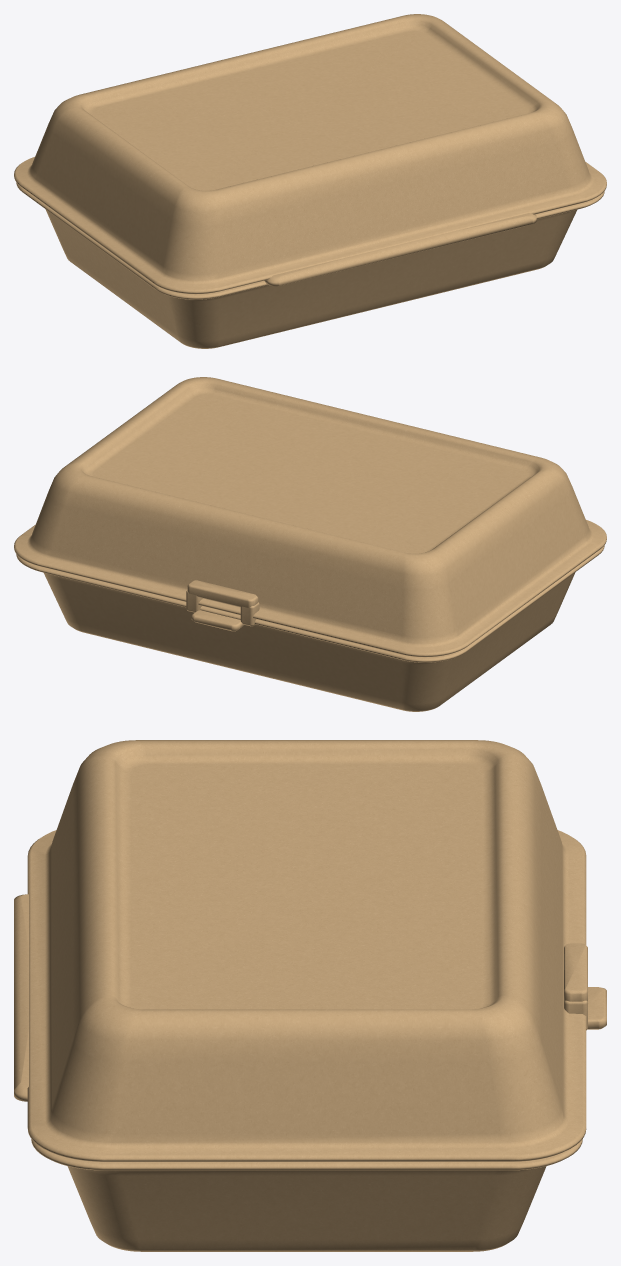
File: takeaway.glb
3 renders of one model, top to bottom at view 1: azimuth 30°, elevation 25°; view 2: azimuth 150°, elevation 25°; view 3: azimuth 270°, elevation 25°, orthographic. The views are drawn at different scales.
Visible parts, largest first — view 1: Lid, Lower tray, Rear hinge; view 2: Lid, Lower tray, Latch upper bridge, Latch tongue; view 3: Lid, Lower tray, Rear hinge, Latch upper bridge, Latch tongue.
Boxes of the visible parts, box(x1,y1,x2,y2) form: Lid: box(14, 14, 606, 294); Lower tray: box(16, 182, 604, 348); Rear hinge: box(264, 213, 536, 286); Lid: box(14, 377, 606, 657); Lower tray: box(16, 545, 604, 711); Latch upper bridge: box(187, 580, 258, 607); Latch tongue: box(191, 610, 244, 631); Lid: box(27, 740, 586, 1161); Lower tray: box(31, 1139, 582, 1251); Rear hinge: box(14, 894, 28, 1101); Latch upper bridge: box(564, 943, 587, 1001); Latch tongue: box(587, 987, 606, 1029).
Size of the model in its own units: 2.45 by 0.8192 by 1.83.
Materials: 1 (1 with a texture image).
